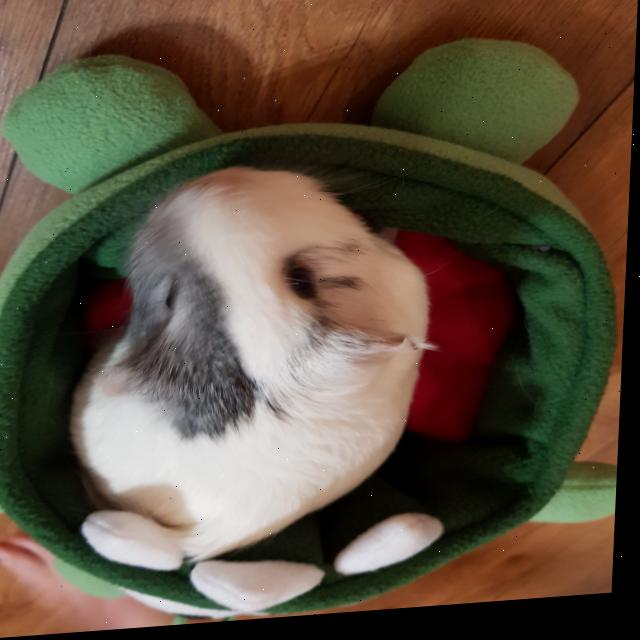guinea pig: (69, 156, 446, 578)
